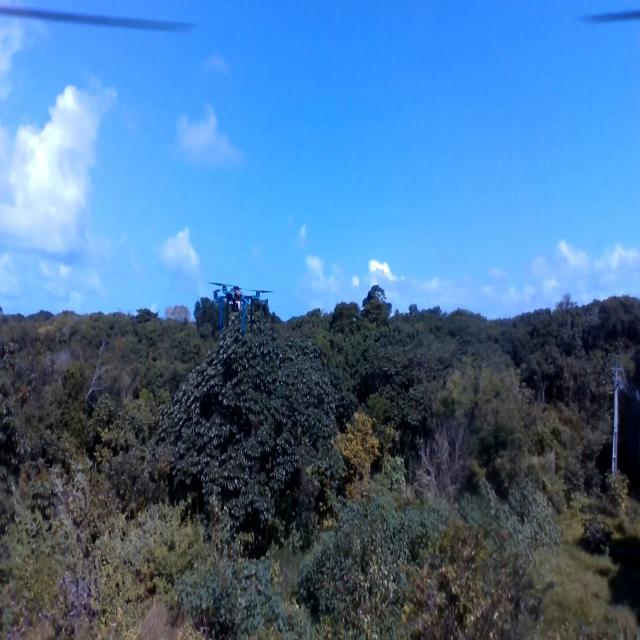-uav-: (199, 266, 290, 341)
